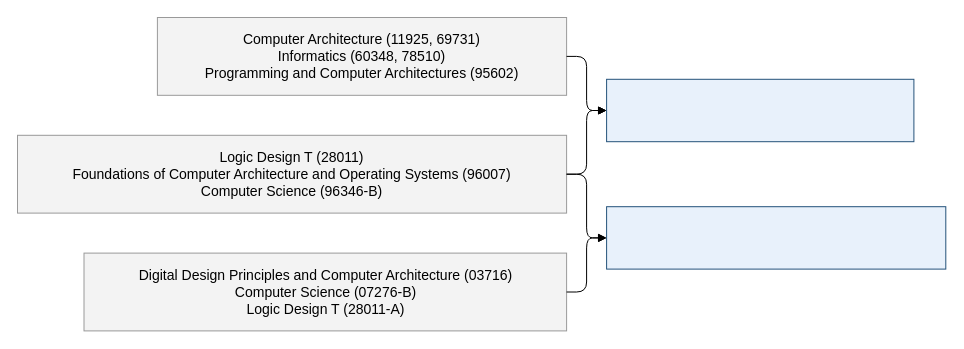
Some shapes in this 964 by 349 pixel diagram are drawn without their labels. Here are the shapes that lost their labels. From the top down, the box of each, then its label:
(606, 78, 914, 142): Computer Architecture and Storage 3 ECTS
(606, 206, 946, 269): Digital Logic and Programmable Devices 3 ECTS
